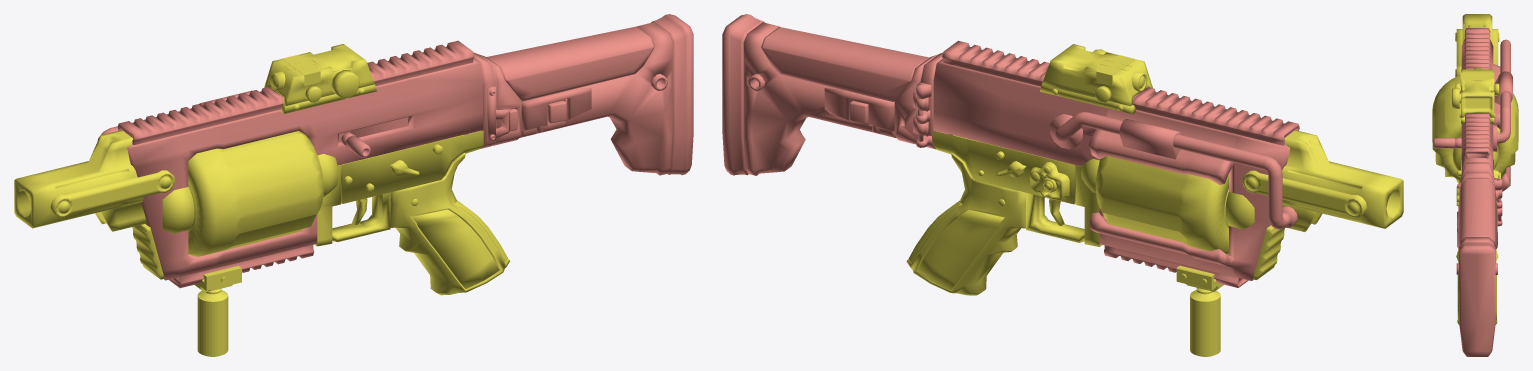
Rendered from Launcher Model.fbx.
3 renders of one model, left to right at view 1: azimuth 30°, elevation 25°; view 2: azimuth 150°, elevation 25°; view 3: azimuth 270°, elevation 25°, orthographic. The views are drawn at different scales.
Parts seen in each view (by area): view 1: Plane.005, Plane.004; view 2: Plane.005, Plane.004; view 3: Plane.005, Plane.004.
Boxes of the visible parts, box(x1,y1,x2,y2) form: Plane.005: box(97, 14, 693, 288); Plane.004: box(14, 44, 509, 356); Plane.005: box(722, 14, 1299, 287); Plane.004: box(906, 44, 1403, 356); Plane.005: box(1433, 28, 1512, 356); Plane.004: box(1432, 14, 1518, 324).
Size of the model in its own units: 27.52 by 10.58 by 4.23.
